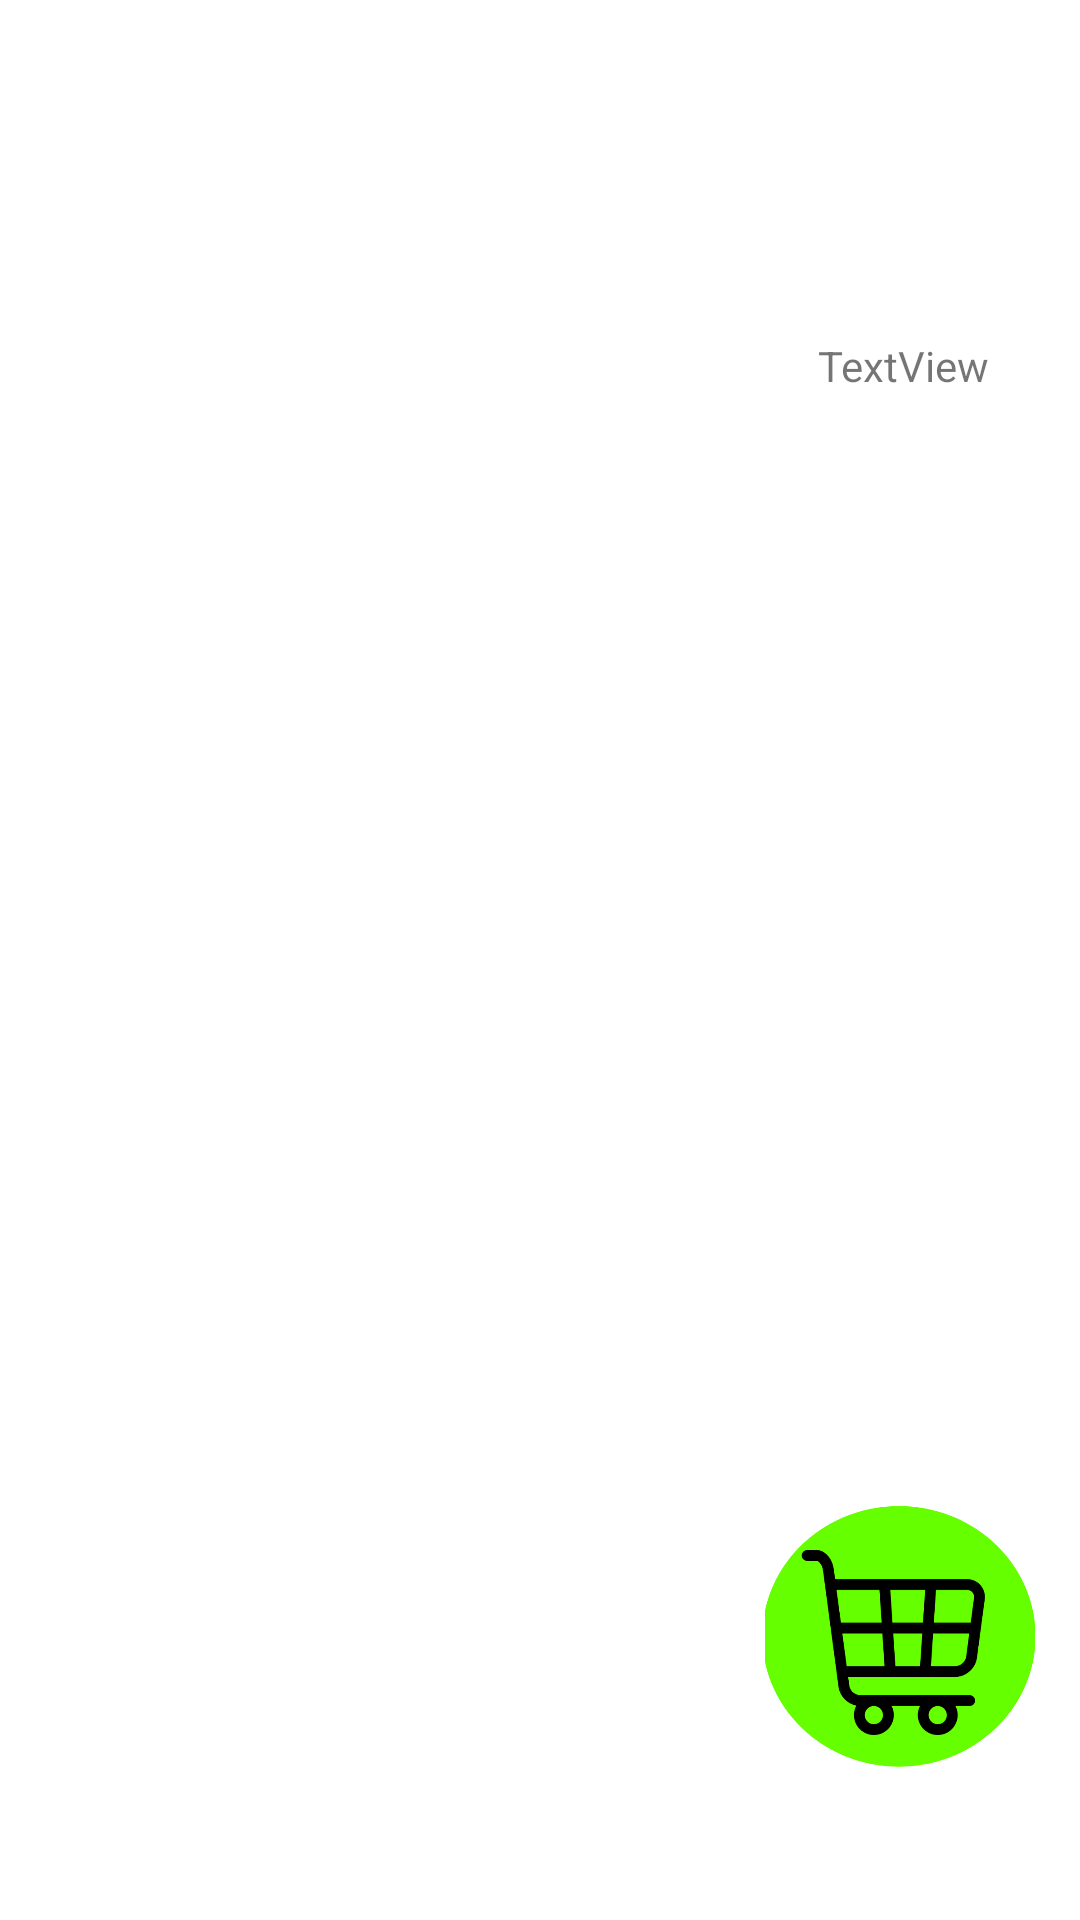

Point at icon controls on the screen. Image size 1080 × 1920, points as point (x, y).
cartbutt: point (900, 1636)
